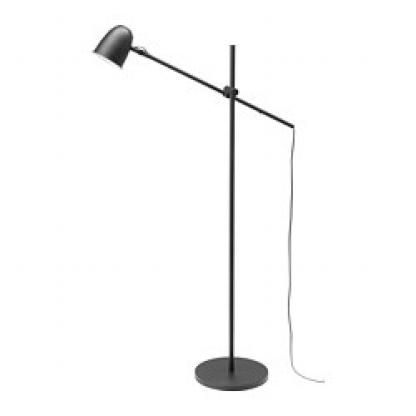Lamp: (83, 22, 300, 399)
